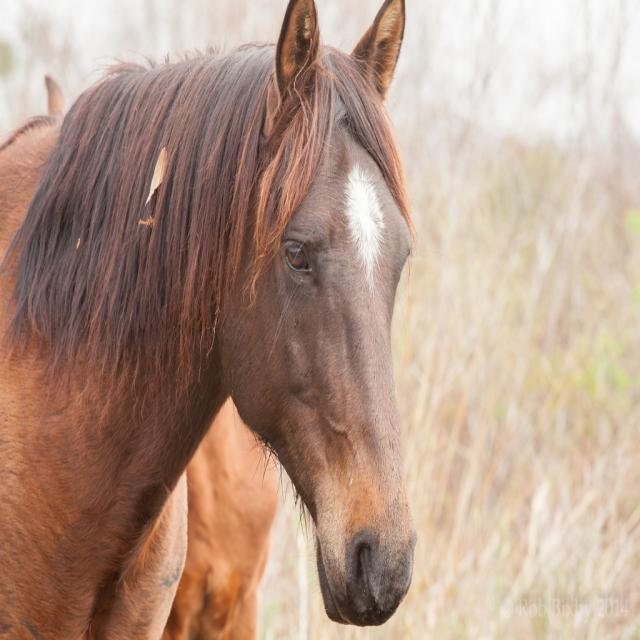Horse: (2, 1, 418, 639)
